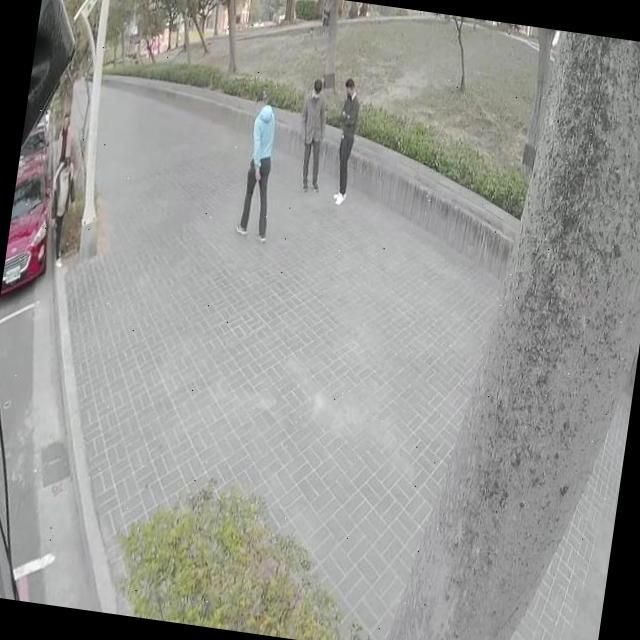person: (232, 90, 288, 244), (325, 78, 363, 204), (294, 76, 332, 189), (44, 152, 76, 265), (58, 112, 74, 161)
